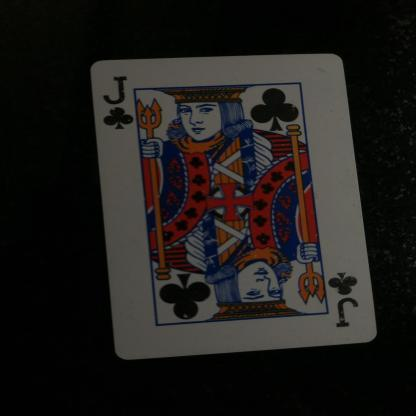JC: (96, 68, 141, 140), (328, 265, 369, 332)
